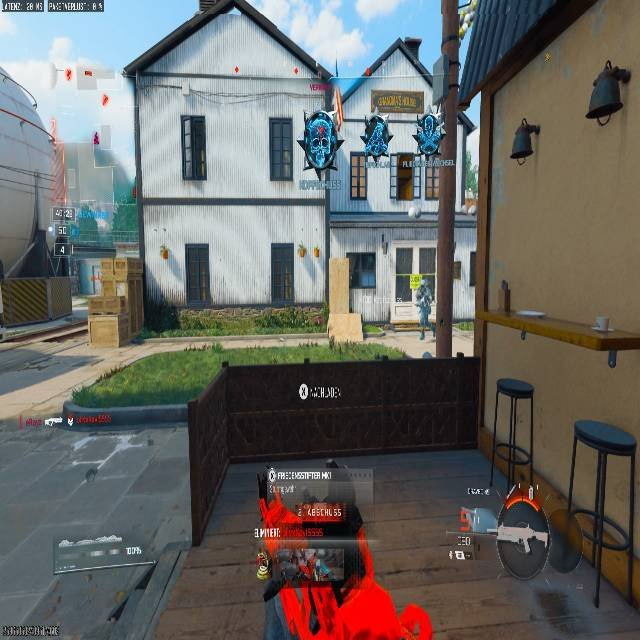head: (421, 279, 429, 289)
player: (255, 496, 374, 631), (302, 107, 339, 177), (49, 212, 76, 275), (360, 113, 392, 159), (414, 279, 436, 340)
